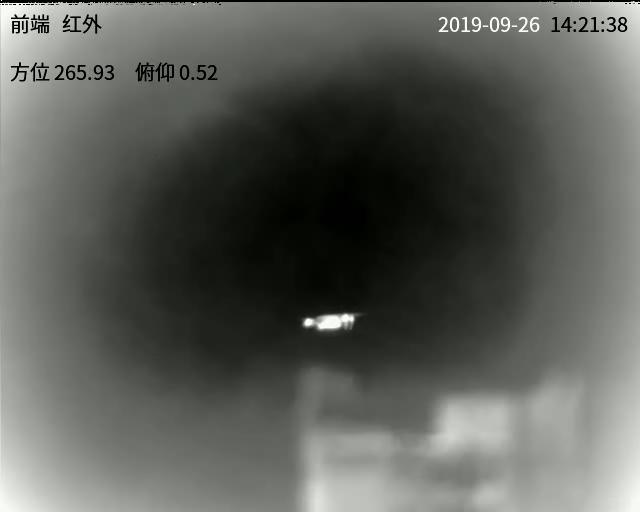uav: (299, 306, 366, 334)
